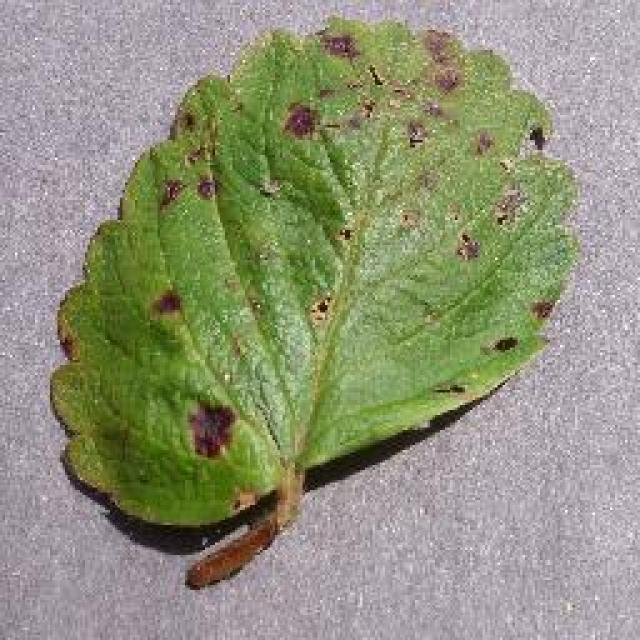Strawberry___Leaf_scorch: (38, 0, 592, 605)
